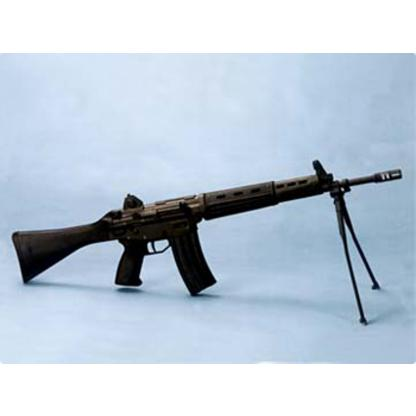gun: (12, 159, 400, 321)
